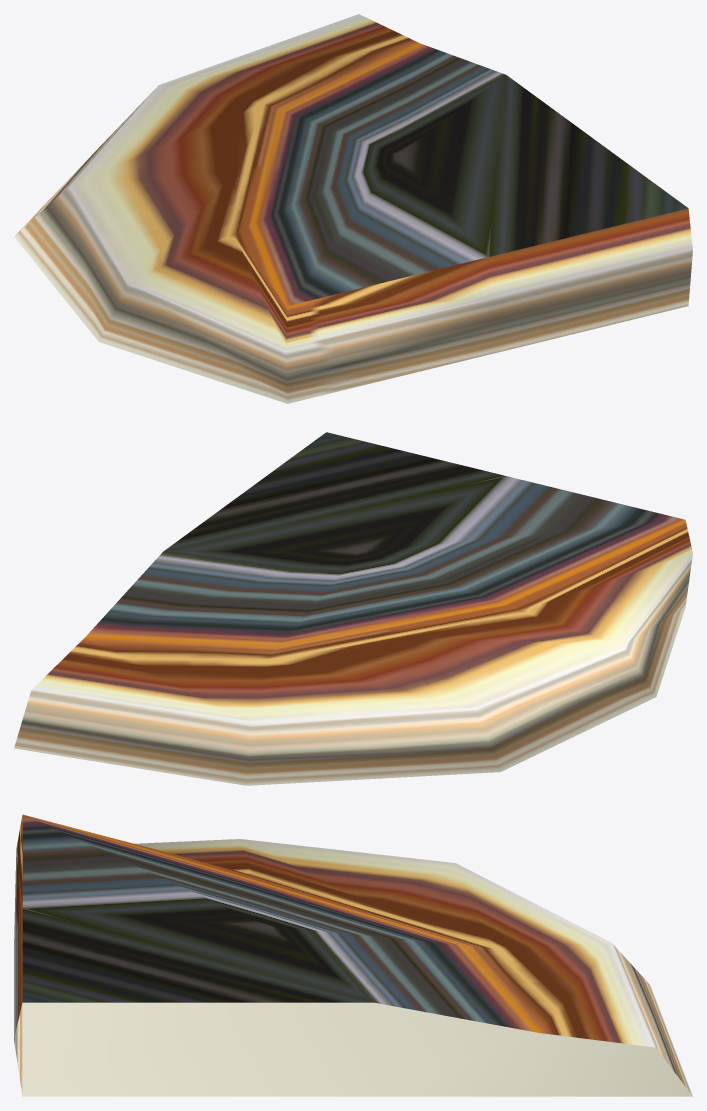
File: polyphore.glb
3 renders of one model, top to bottom at view 1: azimuth 30°, elevation 25°; view 2: azimuth 150°, elevation 25°; view 3: azimuth 270°, elevation 25°, orthographic. The views are drawn at different scales.
Visible parts, largest first — view 1: polyphore; view 2: polyphore; view 3: polyphore.
Part boxes in pixels (bbox=[...]): polyphore: bbox=[14, 14, 692, 403]; polyphore: bbox=[14, 432, 692, 785]; polyphore: bbox=[14, 814, 692, 1096].
Size of the model in its own units: 0.428 by 0.0835 by 0.5466.
Materials: 1 (1 with a texture image).
